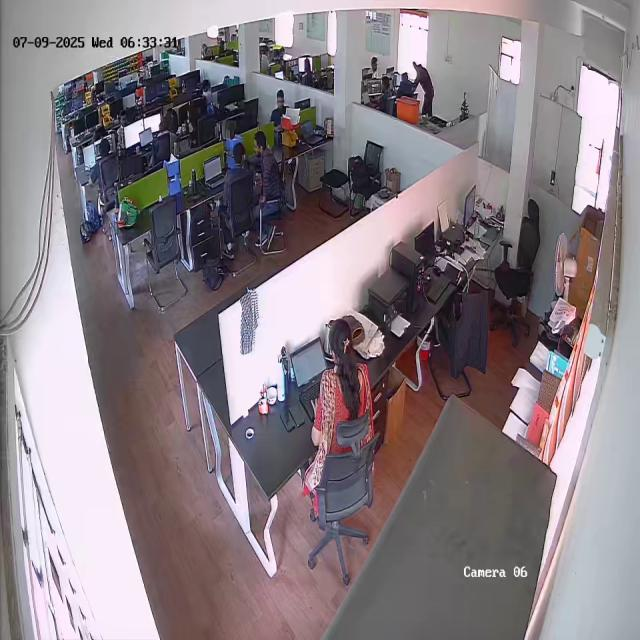person: (316, 318, 372, 448), (253, 131, 283, 201)
